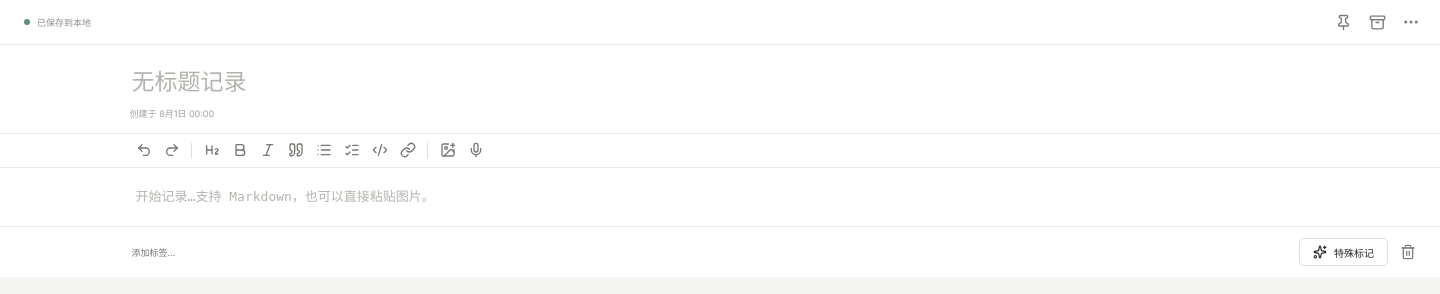
Test: creates a normalized custom marker in the full editor and automatically saves it
Step 1. Click the button "特殊标记" → [1344, 252], box [1299,238,1388,266]
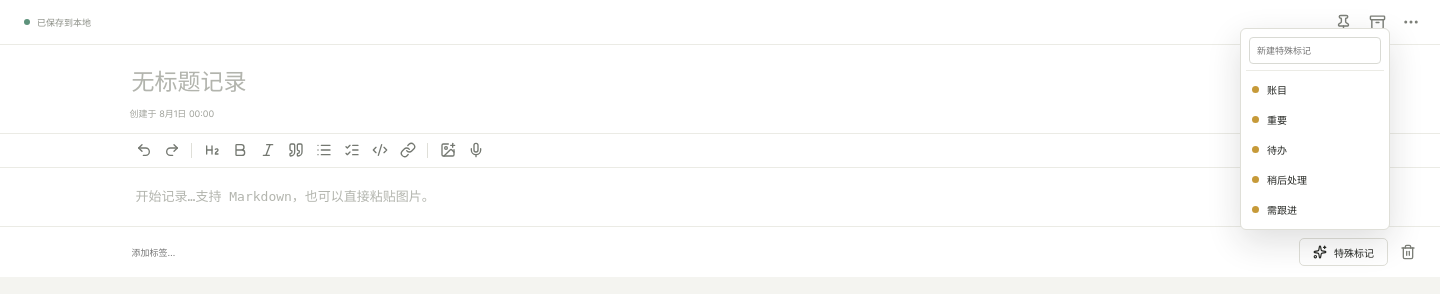
Step 2. Type "  客户   反馈  " into the field with placeholder "新建特殊标记" → [1315, 51], box [1249,37,1381,64]
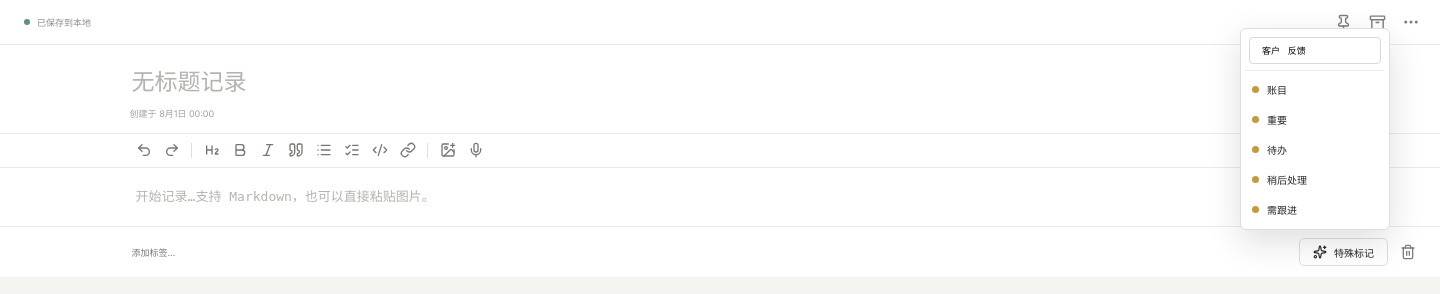
Step 3. Press Enter in the field with placeholder "新建特殊标记", box [1249,37,1381,64]
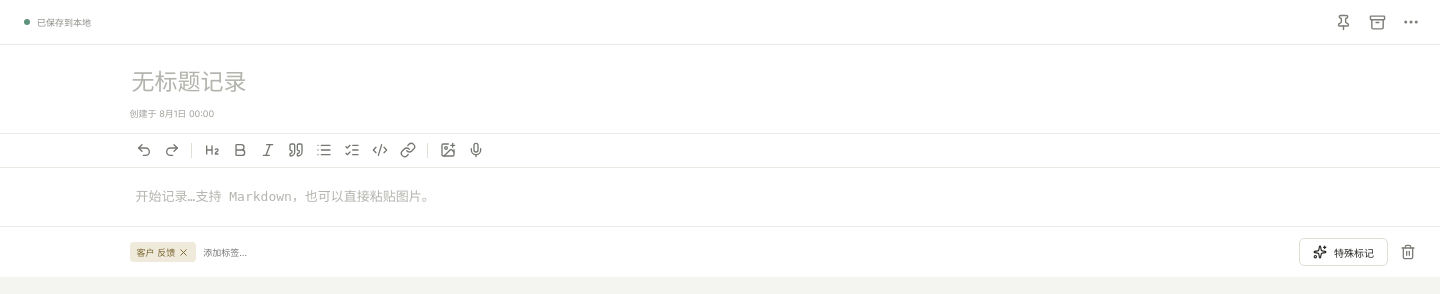
Expected: the text "客户 反馈" is shown, [130,242,196,262]
